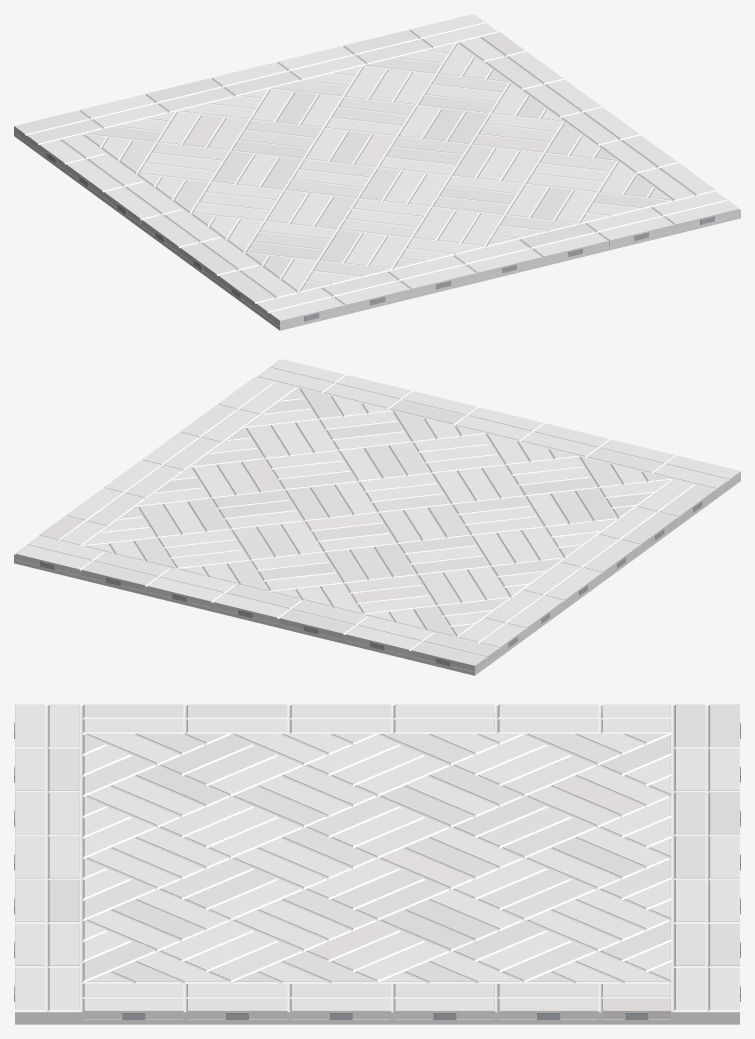
The model's file is board_8.glb.
3 views of the same model, one above another, from view 1: azimuth 30°, elevation 25°; view 2: azimuth 150°, elevation 25°; view 3: azimuth 270°, elevation 25° (orthographic). The views are drawn at different scales.
Visible parts, largest first — view 1: T01_T01, MORTAR, T04_T04, T03_T03, backing, T05_T05, T02_T02, CLIP_RC-50; view 2: T01_T01, MORTAR, T04_T04, T03_T03, backing, T05_T05, T02_T02, CLIP_RC-50; view 3: T01_T01, MORTAR, T04_T04, T03_T03, backing, T05_T05, T02_T02, CLIP_RC-50.
Part boxes in pixels (x1,y1,x2,y2): T01_T01: (14, 14, 738, 326); MORTAR: (25, 14, 740, 318); T04_T04: (85, 44, 669, 290); T03_T03: (102, 51, 652, 283); backing: (14, 132, 740, 330); T05_T05: (39, 32, 524, 168); T02_T02: (85, 43, 670, 290); CLIP_RC-50: (47, 152, 714, 321); T01_T01: (16, 359, 740, 671); MORTAR: (14, 359, 729, 663); T04_T04: (84, 388, 669, 635); T03_T03: (103, 396, 651, 628); backing: (14, 477, 740, 675); T05_T05: (39, 516, 525, 652); T02_T02: (85, 389, 669, 635); CLIP_RC-50: (40, 501, 702, 666); T01_T01: (15, 704, 739, 1018); MORTAR: (15, 705, 739, 1019); T04_T04: (84, 733, 670, 981); T03_T03: (84, 733, 670, 981); backing: (15, 713, 739, 1024); T05_T05: (603, 704, 670, 1018); T02_T02: (84, 733, 670, 981); CLIP_RC-50: (14, 722, 740, 1019).
Bounding box in the file's own units: 1.58 × 0.033 × 1.58.
7 materials, 1 textured.
